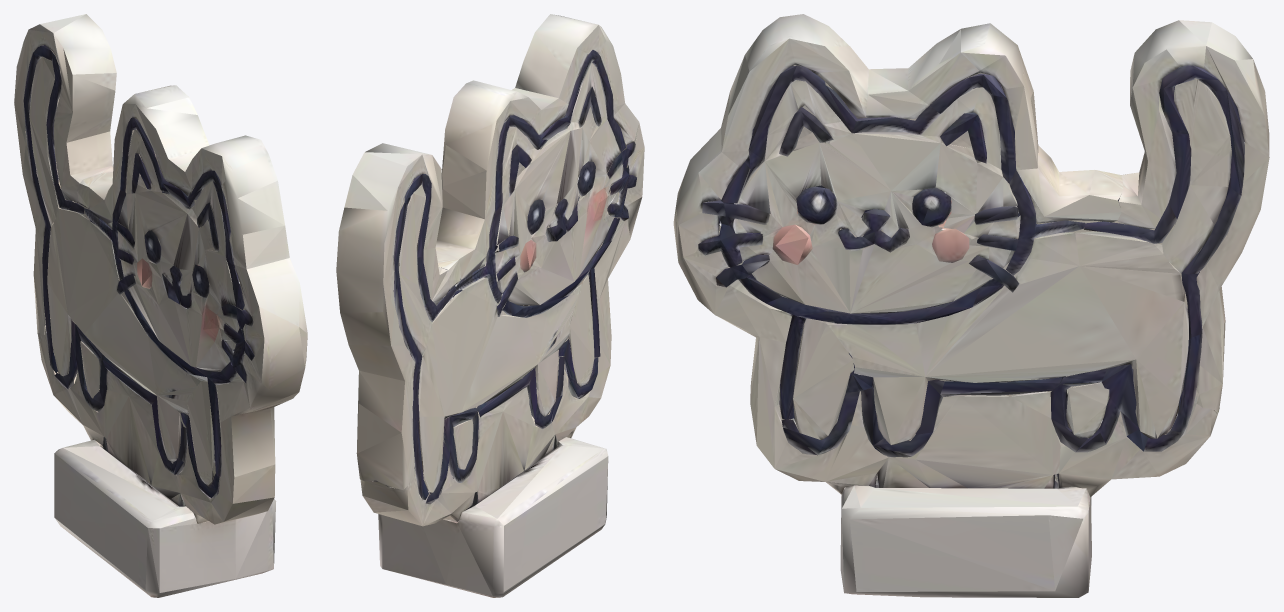
The picture shows the model from 3 angles, left to right: view 1: azimuth 30°, elevation 25°; view 2: azimuth 150°, elevation 25°; view 3: azimuth 270°, elevation 25°; orthographic projection. The views are drawn at different scales.
Visible parts, largest first — view 1: U01-paper-pet-standee; view 2: U01-paper-pet-standee; view 3: U01-paper-pet-standee.
Part boxes in pixels (<box>): U01-paper-pet-standee: <box>14,14,307,597</box>; U01-paper-pet-standee: <box>336,14,644,597</box>; U01-paper-pet-standee: <box>673,14,1269,597</box>.
Size of the model in its own units: 0.2628 by 0.8999 by 0.8974.
Materials: 1 (1 with a texture image).
